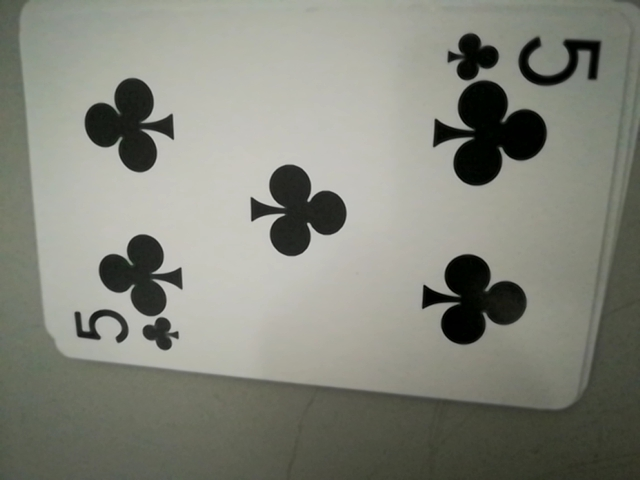mh 5: (443, 26, 598, 87), (64, 304, 188, 359)
